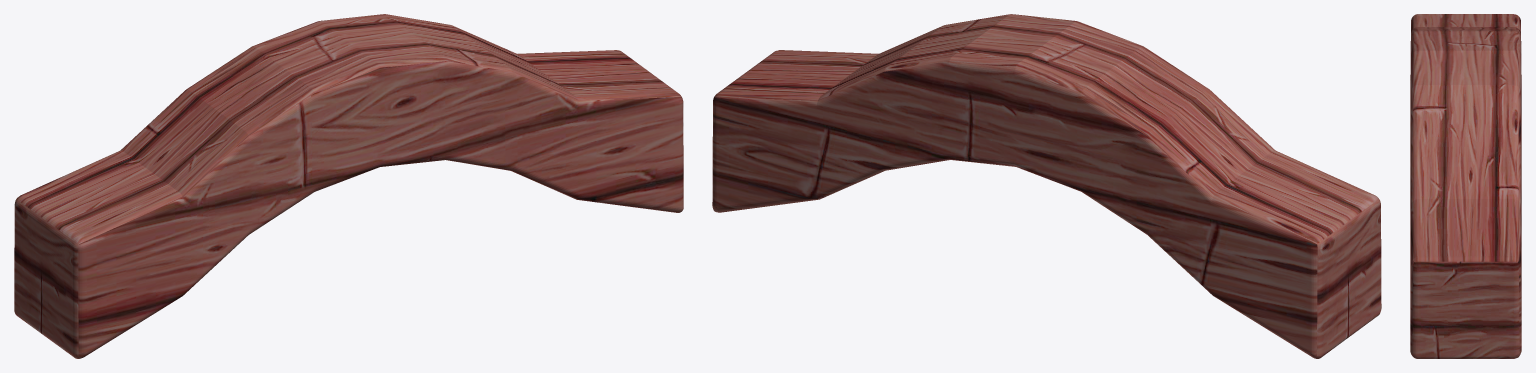
The model's file is Cornisa_front.fbx.
3 views of the same model, side by side, from view 1: azimuth 30°, elevation 25°; view 2: azimuth 150°, elevation 25°; view 3: azimuth 270°, elevation 25° (orthographic). The views are drawn at different scales.
Visible parts, largest first — view 1: Corniza_frontal; view 2: Corniza_frontal; view 3: Corniza_frontal.
Boxes of the visible parts, bbox=[...] form: Corniza_frontal: bbox=[14, 14, 683, 358]; Corniza_frontal: bbox=[712, 14, 1381, 358]; Corniza_frontal: bbox=[1410, 14, 1521, 358].
Size of the model in its own units: 1052 by 366 by 200.
